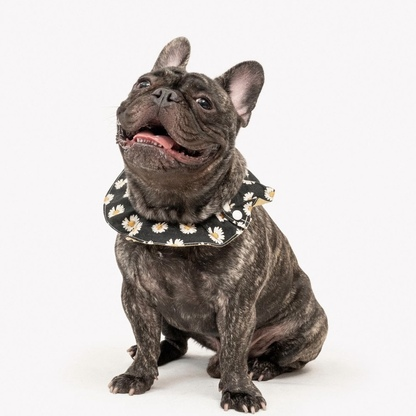bulldog: (106, 33, 332, 416)
